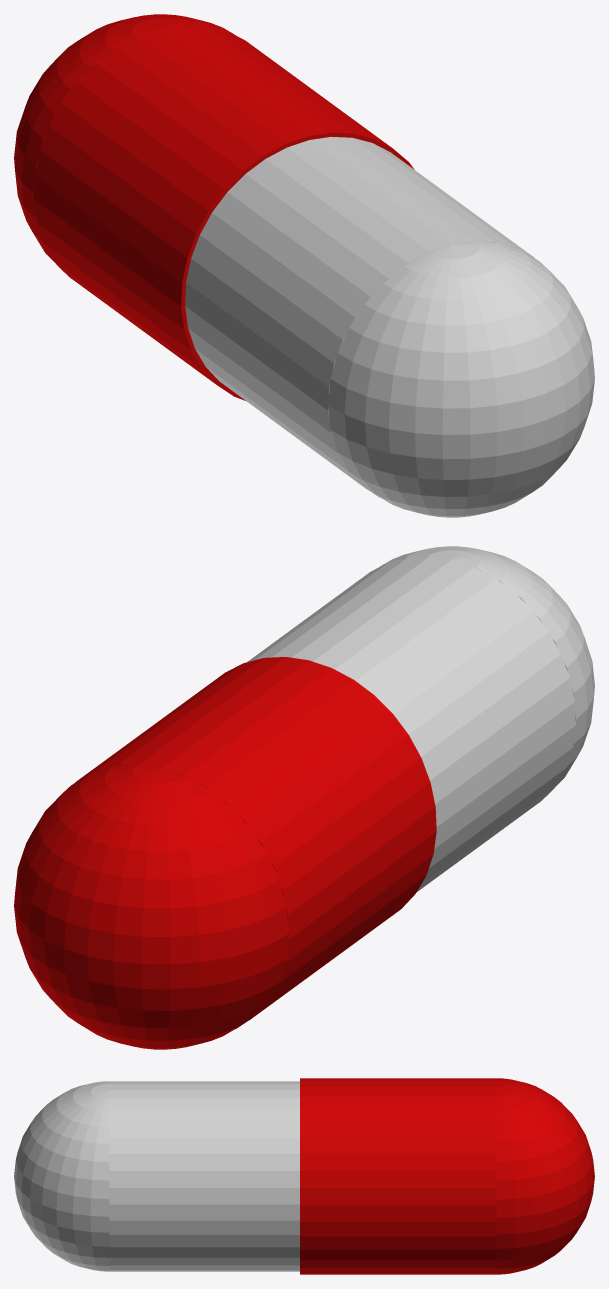
The model's file is pastilla.fbx.
The picture shows the model from 3 angles, top to bottom: view 1: azimuth 30°, elevation 25°; view 2: azimuth 150°, elevation 25°; view 3: azimuth 270°, elevation 25°; orthographic projection. The views are drawn at different scales.
Visible parts, largest first — view 1: Cylinder.001; view 2: Cylinder.001; view 3: Cylinder.001.
Boxes of the visible parts, bbox=[...] form: Cylinder.001: bbox=[14, 14, 594, 517]; Cylinder.001: bbox=[14, 546, 594, 1049]; Cylinder.001: bbox=[14, 1078, 594, 1274].
Size of the model in its own units: 22.64 by 22.64 by 66.9.
